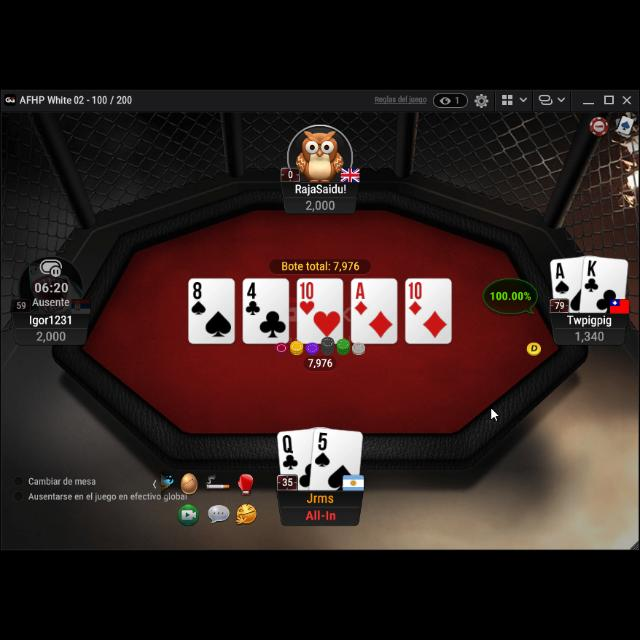4c: (244, 280, 262, 316)
5s: (314, 428, 332, 468)
8s: (190, 279, 208, 315)
Ad: (352, 278, 370, 316)
As: (552, 260, 572, 296)
Kc: (583, 257, 601, 293)
Qc: (282, 432, 300, 472)
Td: (406, 278, 424, 316), (298, 279, 316, 315)
Th: (298, 279, 316, 315)
all_in_symbol: (303, 506, 337, 522)
bet_text: (306, 356, 334, 368)
dealer: (525, 338, 543, 356)
pot_text: (283, 259, 362, 271)
stack_text: (303, 196, 337, 212), (35, 328, 67, 344), (575, 329, 605, 343)
